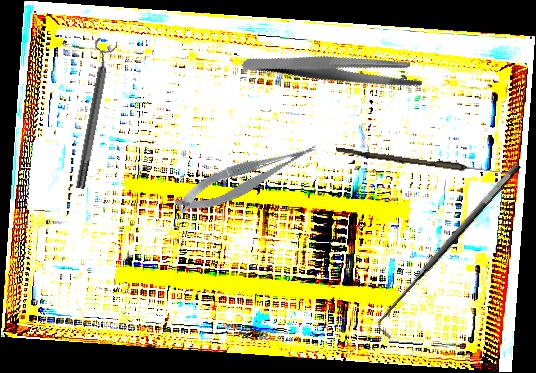Dressing Forceps: (240, 11, 428, 126)
Fixation Ring: (67, 37, 120, 191)
Hook Surgical: (368, 160, 534, 340)
Micro Scissor: (169, 138, 325, 219)
Surgical Spoon: (335, 147, 510, 177)
